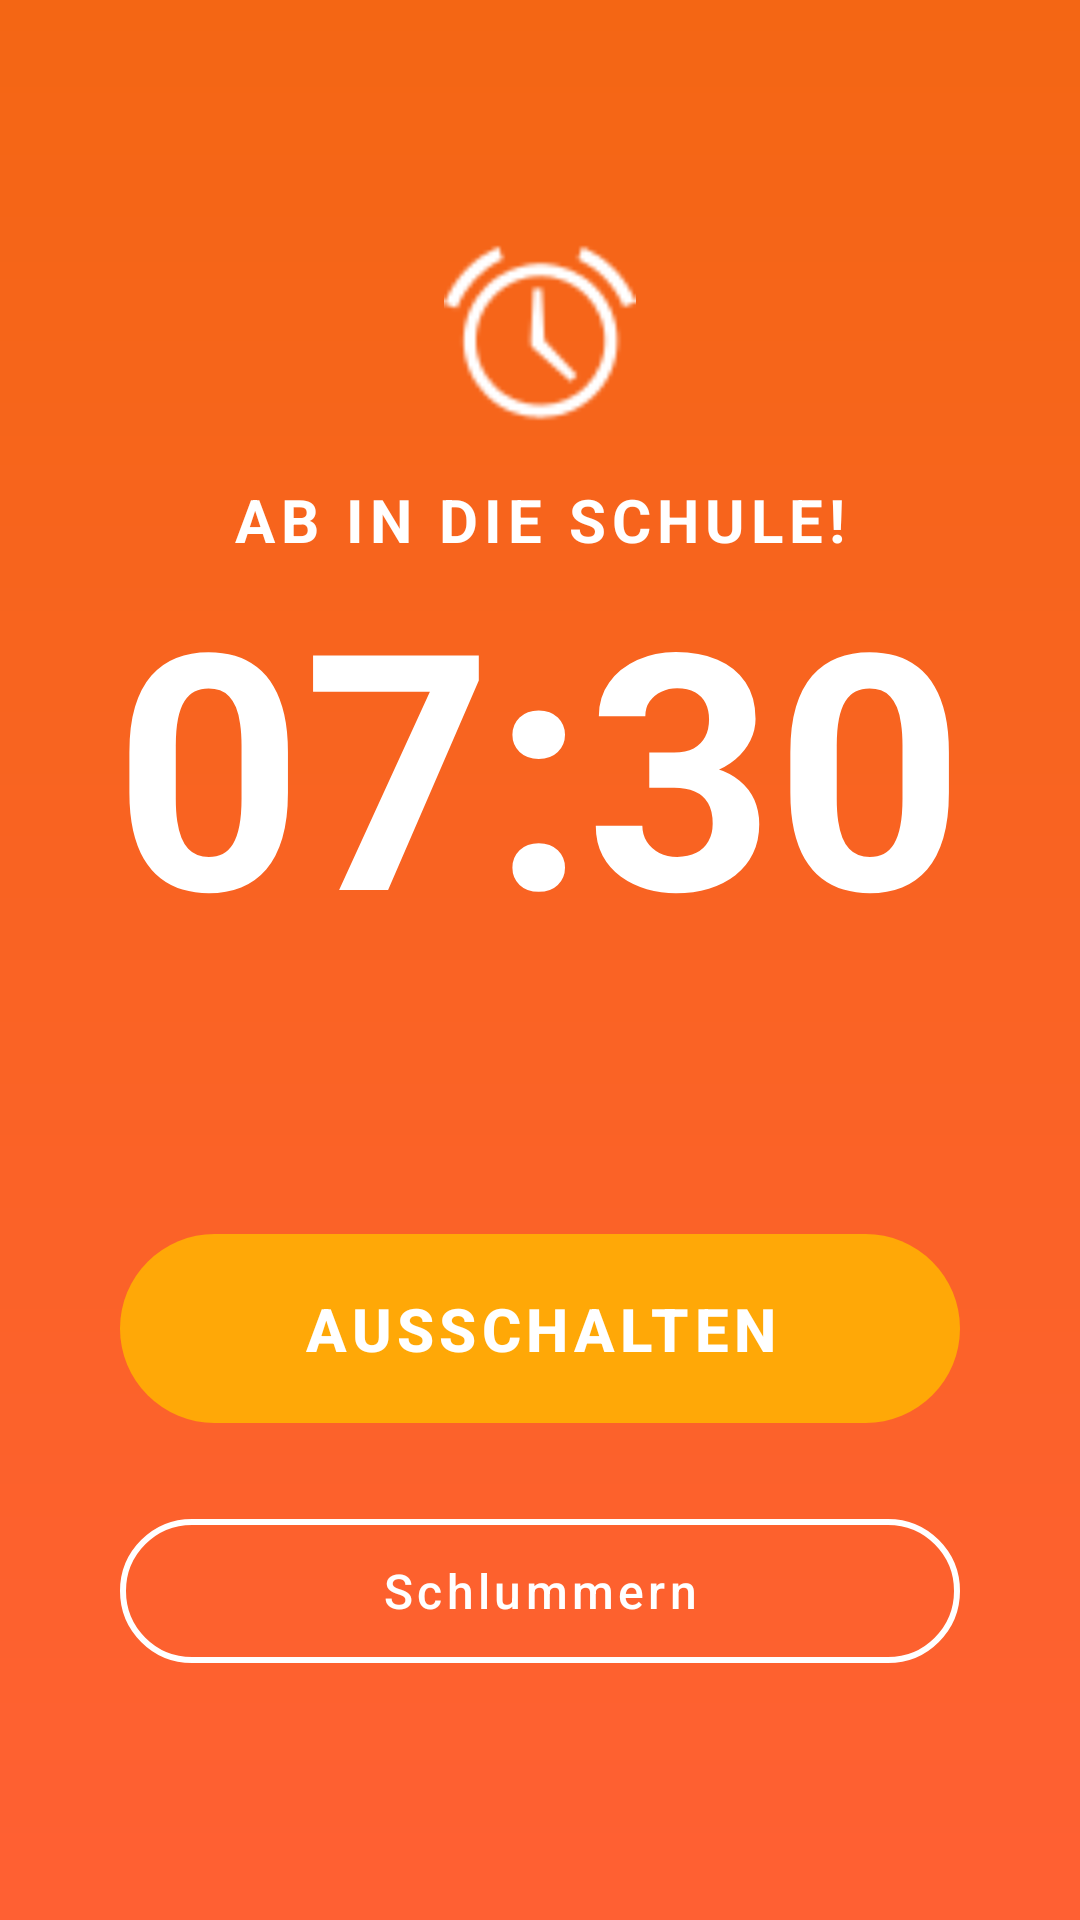

Screen size 1080x1920. Icon name, then its center in pixels as [x,y]:
lock idle alarm: [540,333]
